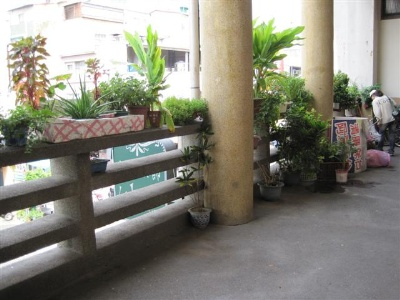plastic_bag: (366, 148, 391, 168)
styrofoam: (43, 113, 144, 144)
